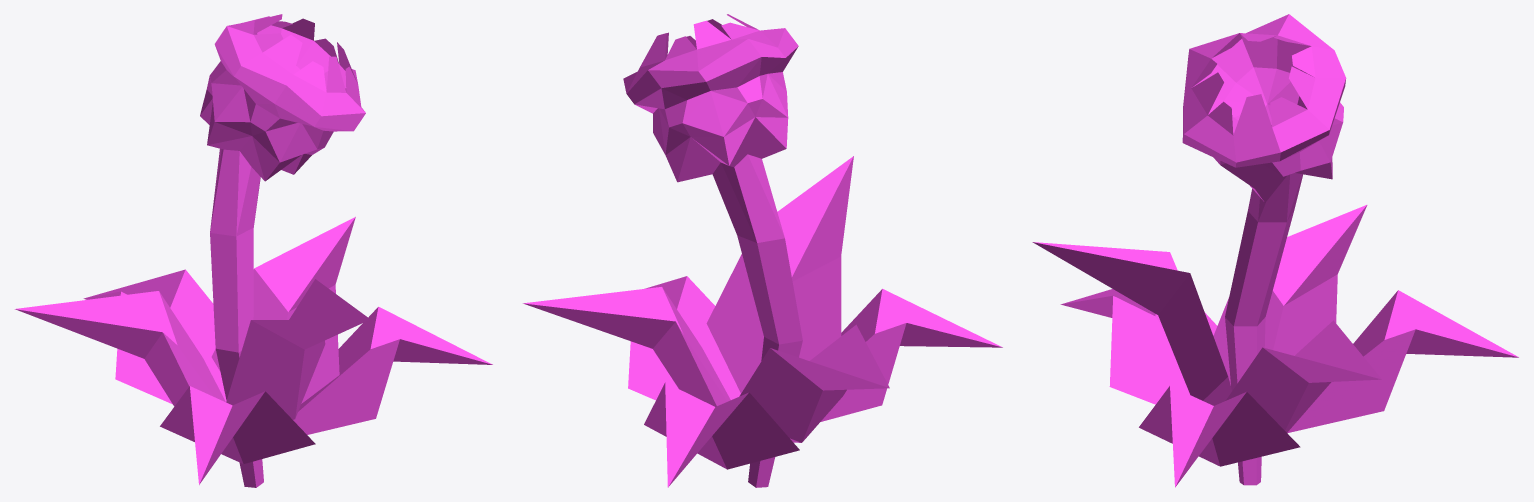
Rendered from SM_Bush_Thorns_Small_Tall_Fantasy.fbx.
3 views of the same model, side by side, from view 1: azimuth 30°, elevation 25°; view 2: azimuth 150°, elevation 25°; view 3: azimuth 270°, elevation 25° (orthographic). The views are drawn at different scales.
Visible parts, largest first — view 1: SM_Bush_Thorns_Small_Tall_Fantasy; view 2: SM_Bush_Thorns_Small_Tall_Fantasy; view 3: SM_Bush_Thorns_Small_Tall_Fantasy.
Boxes of the visible parts, left/top/right/bottom form: SM_Bush_Thorns_Small_Tall_Fantasy: left=15, top=14, right=492, bottom=487; SM_Bush_Thorns_Small_Tall_Fantasy: left=523, top=14, right=1002, bottom=487; SM_Bush_Thorns_Small_Tall_Fantasy: left=1032, top=14, right=1518, bottom=487.
Size of the model in its own units: 1.09 by 1.2 by 1.14.
